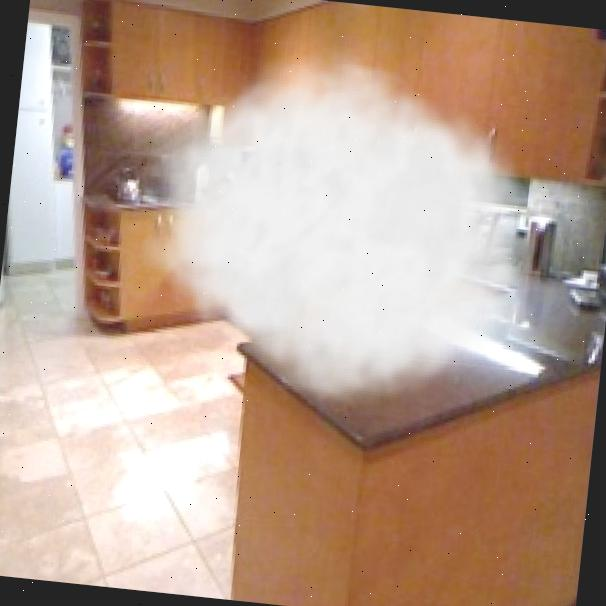smoke: (126, 25, 568, 431)
